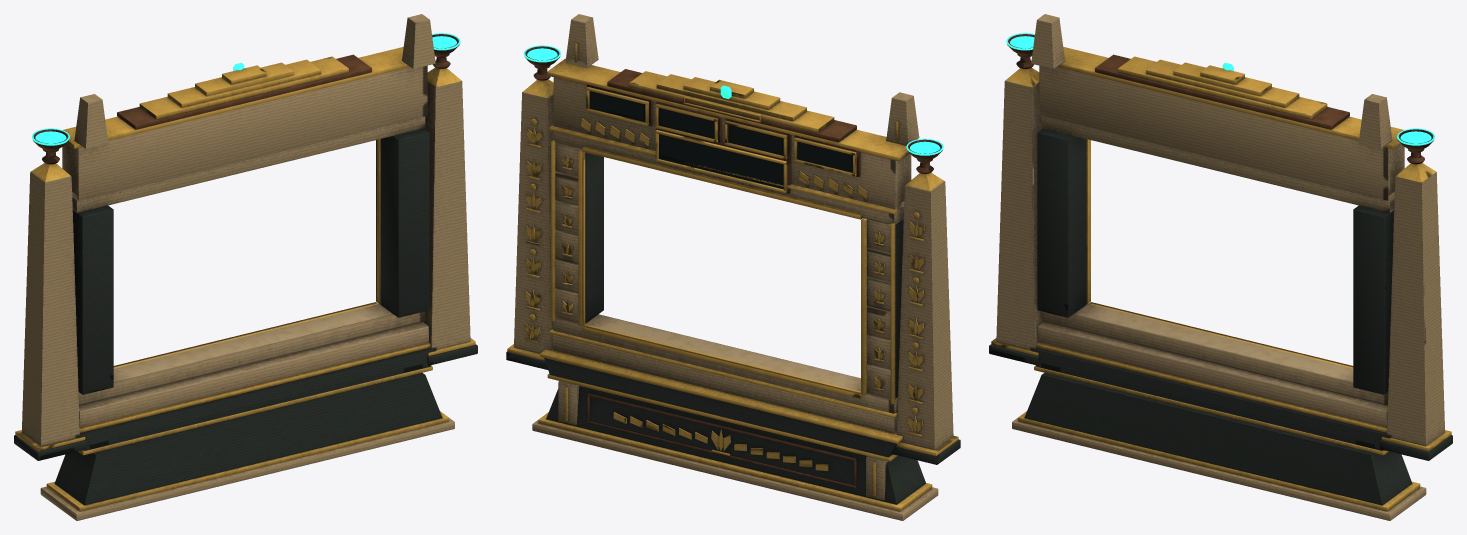
3 renders of one model, left to right at view 1: azimuth 30°, elevation 25°; view 2: azimuth 150°, elevation 25°; view 3: azimuth 330°, elevation 25°, orthographic. The views are drawn at different scales.
Parts seen in each view (by area): view 1: Tomb_sandstone, Dark_sandstone, Polished_gold, Antique_bronze, Emerald_torch_glow; view 2: Tomb_sandstone, Polished_gold, Dark_sandstone, Flat_display_enamel, Antique_bronze, Emerald_torch_glow; view 3: Tomb_sandstone, Dark_sandstone, Polished_gold, Antique_bronze, Emerald_torch_glow.
Part boxes in pixels (box(x1,y1,x2,y2)): Tomb_sandstone: box(22, 14, 470, 520); Dark_sandstone: box(14, 128, 477, 505); Polished_gold: box(15, 47, 475, 511); Antique_bronze: box(33, 34, 459, 164); Emerald_torch_glow: box(32, 33, 460, 145); Tomb_sandstone: box(514, 14, 953, 520); Polished_gold: box(507, 43, 958, 511); Dark_sandstone: box(506, 152, 960, 504); Flat_display_enamel: box(589, 91, 852, 189); Antique_bronze: box(525, 46, 942, 488); Emerald_torch_glow: box(523, 45, 943, 155); Tomb_sandstone: box(996, 14, 1444, 520); Dark_sandstone: box(989, 128, 1452, 505); Polished_gold: box(991, 47, 1451, 511); Antique_bronze: box(1007, 34, 1433, 164); Emerald_torch_glow: box(1006, 33, 1434, 145).
Size of the model in its own units: 10.6 by 9.4 by 1.52.
6 materials, 5 textured.
